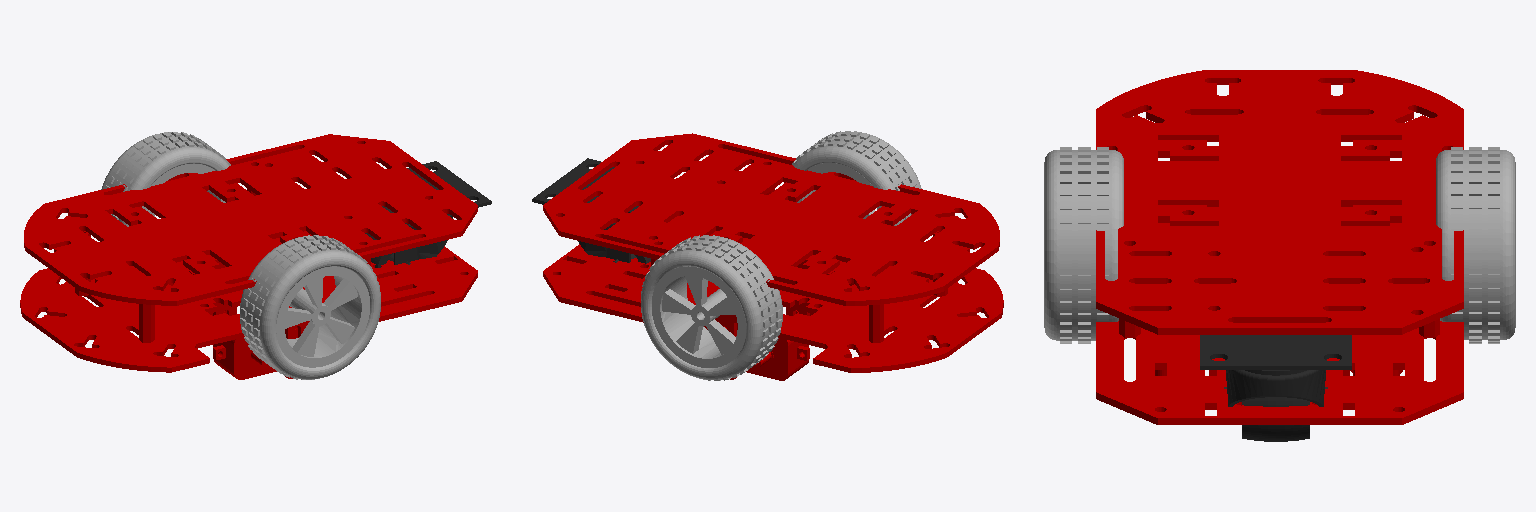
The robot description file, URDF, robot "my_robot":
<?xml version="1.0" ?>
<!-- =================================================================================== -->
<!-- |    This document was autogenerated by xacro from my_robot.xacro                 | -->
<!-- |    EDITING THIS FILE BY HAND IS NOT RECOMMENDED                                 | -->
<!-- =================================================================================== -->
<!--
	http://www.generationrobots.com/blog/en/2015/02/robotic-simulation-scenarios-with-gazebo-and-ros/#create your own robot model
	
	#######################################################

    To run:
    $ roslaunch my_robot_gazebo my_robot_world.launch paused:=true

    $ rosrun turtlebot_teleop turtlebot_teleop_key /turtlebot_teleop/cmd_vel:=/my_robot/cmd_vel

-->
<robot name="my_robot" xmlns:xacro="http://www.ros.org/wiki/xacro">
  <!--xacro:property name="cameraSize" value="0.05"/>
	<xacro:property name="cameraMass" value="0.1"/-->
  <material name="black">
    <color rgba="0.0 0.0 0.0 1.0"/>
  </material>
  <material name="blue">
    <color rgba="0.0 0.0 0.8 1.0"/>
  </material>
  <material name="green">
    <color rgba="0.0 0.8 0.0 1.0"/>
  </material>
  <material name="grey">
    <color rgba="0.2 0.2 0.2 1.0"/>
  </material>
  <material name="light_grey">
    <color rgba="0.6 0.6 0.6 1"/>
  </material>
  <material name="dark_grey">
    <color rgba="0.3 0.3 0.3 1"/>
  </material>
  <material name="orange">
    <color rgba="1.0 0.423529411765 0.0392156862745 1.0"/>
  </material>
  <material name="brown">
    <color rgba="0.870588235294 0.811764705882 0.764705882353 1.0"/>
  </material>
  <material name="red">
    <color rgba="0.8 0.0 0.0 1.0"/>
  </material>
  <material name="white">
    <color rgba="1.0 1.0 1.0 1.0"/>
  </material>
  <!-- ros_control plugin -->
  <gazebo>
    <plugin filename="libgazebo_ros_control.so" name="gazebo_ros_control">
      <robotNamespace>/my_robot</robotNamespace>
      <robotParam>/robot_description</robotParam>
      <robotSimType>gazebo_ros_control/DefaultRobotHWSim</robotSimType>
    </plugin>
  </gazebo>
  <!--
    The plugin broadcasts a body's pose and rates through ROS nav_msgs::Odometry message.
    The plugin broadcasts pose and rate of a body named "chassis" over ROS topic name "my_robot/odom".
  -->
  <gazebo>
    <plugin filename="libgazebo_ros_p3d.so" name="ground_truth">
      <frameName>map</frameName>
      <bodyName>chassis</bodyName>
      <topicName>my_robot/odom</topicName>
      <updateRate>30.0</updateRate>
    </plugin>
  </gazebo>
  <!-- Chassis -->
  <gazebo reference="chassis">
    <mu1>0.3</mu1>
    <mu2>0.3</mu2>
    <material>Gazebo/Red</material>
  </gazebo>
  <!-- Caster wheel -->
  <gazebo reference="caster_wheel">
    <mu1>0.0</mu1>
    <mu2>0.0</mu2>
    <kp>1000000.0</kp>
    <kd>100.0</kd>
    <minDepth>0.001</minDepth>
    <maxVel>1.0</maxVel>
    <material>Gazebo/Chrome</material>
  </gazebo>
  <gazebo>
    <plugin filename="libgazebo_ros_diff_drive.so" name="differential_drive_controller">
      <robotNamespace>/</robotNamespace>
      <alwaysOn>true</alwaysOn>
      <updateRate>100</updateRate>
      <leftJoint>left_wheel_hinge</leftJoint>
      <rightJoint>right_wheel_hinge</rightJoint>
      <wheelSeparation>0.025</wheelSeparation>
      <wheelDiameter>0.064</wheelDiameter>
      <torque>20</torque>
      <commandTopic>my_robot/cmd_vel</commandTopic>
      <odometryTopic>my_robot/odom</odometryTopic>
      <odometryFrame>odom</odometryFrame>
      <robotBaseFrame>base_footprint</robotBaseFrame>
      <legacyMode>false</legacyMode>
      <rosDebugLevel>Debug</rosDebugLevel>
      <publishWheelTF>true</publishWheelTF>
      <publishWheelJointState>true</publishWheelJointState>
      <wheelAcceleration>5</wheelAcceleration>
      <wheelTorque>20</wheelTorque>
      <publishTf>1</publishTf>
      <odometrySource>encoder</odometrySource>
    </plugin>
  </gazebo>
  <!-- Used for fixing robot to Gazebo 'chassis' -->
  <link name="base_footprint"/>
  <joint name="base_joint" type="fixed">
    <parent link="base_footprint"/>
    <child link="chassis"/>
  </joint>
  <link name="chassis">
    <collision>
      <origin rpy="0 0 0" xyz="0 0 0.032"/>
      <geometry>
        <!--box size="${chassisLength} 
						   ${chassisWidth} 
						   ${chassisHeight}"/-->
        <mesh filename="package://my_robot_description/meshes/chassis.dae"/>
      </geometry>
    </collision>
    <visual>
      <origin rpy="0 0 0" xyz="0 0 0.032"/>
      <geometry>
        <mesh filename="package://my_robot_description/meshes/chassis.dae"/>
      </geometry>
      <material name="red"/>
    </visual>
    <inertial>
      <origin rpy="0 0 0" xyz="0 0 0.032"/>
      <mass value="0.15"/>
      <inertia ixx="0.000225528625" ixy="0" ixz="0" iyy="0.000538566125" iyz="0" izz="0.000538566125"/>
    </inertial>
  </link>
  <joint name="caster_joint" type="fixed">
    <parent link="chassis"/>
    <child link="caster_wheel"/>
  </joint>
  <link name="caster_wheel">
    <collision>
      <origin rpy="0 0 0" xyz="0.091 0 0.042"/>
      <geometry>
        <!--sphere radius="${casterRadius}"/-->
        <mesh filename="package://my_robot_description/meshes/caster_wheel.dae"/>
      </geometry>
    </collision>
    <visual>
      <origin rpy="0 0 0" xyz="0.091 0 0.042"/>
      <geometry>
        <!--sphere radius="${casterRadius}"/-->
        <mesh filename="package://my_robot_description/meshes/caster_wheel.dae"/>
      </geometry>
      <material name="grey"/>
    </visual>
    <inertial>
      <origin rpy="0 0 0" xyz="0.091 0 0.042"/>
      <mass value="0.09"/>
      <inertia ixx="1.5876e-05" ixy="0" ixz="0" iyy="1.5876e-05" iyz="0" izz="1.5876e-05"/>
    </inertial>
  </link>
  <link name="left_wheel">
    <collision>
      <origin rpy="1.57079632679 0 0" xyz="0 0 0"/>
      <geometry>
        <cylinder length="0.026" radius="0.032"/>
        <!--mesh filename="package://my_robot_description/meshes/${lr}_wheel.dae" /-->
      </geometry>
    </collision>
    <visual>
      <origin rpy="1.57079632679 0 0" xyz="0 0 0"/>
      <geometry>
        <!--cylinder 
            length="${wheelWidth}" 
            radius="${wheelRadius}"/-->
        <mesh filename="package://my_robot_description/meshes/left_wheel.dae"/>
      </geometry>
    </visual>
    <inertial>
      <origin rpy="1.57079632679 0 0" xyz="0 0 0"/>
      <mass value="0.05"/>
      <inertia ixx="1.56166666667e-05" ixy="0" ixz="0" iyy="1.56166666667e-05" iyz="0" izz="2.56e-05"/>
    </inertial>
  </link>
  <gazebo reference="left_wheel">
    <mu1 value="1.0"/>
    <mu2 value="1.0"/>
    <kp value="10000000.0"/>
    <kd>100.0</kd>
    <minDepth>0.001</minDepth>
    <maxVel>1.0</maxVel>
    <!--kd  value="1.0" />
      <fdir1 value="1 0 0"/-->
    <material>Gazebo/FlatBlack</material>
  </gazebo>
  <joint name="left_wheel_hinge" type="continuous">
    <parent link="chassis"/>
    <child link="left_wheel"/>
    <origin rpy="0 0 0" xyz="0 0.063 0.032"/>
    <axis rpy="0 0 0" xyz="0 1 0"/>
    <!--limit effort="100" velocity="10"/-->
    <limit effort="0.0" velocity="0.0"/>
    <joint_properties damping="0.0" friction="0.0"/>
  </joint>
  <!--
  http://gazebosim.org/tutorials/?tut=ros_control
-->
  <transmission name="left_trans">
    <type>transmission_interface/SimpleTransmission</type>
    <joint name="left_wheel_hinge">
      <hardwareInterface>hardware_interface/EffortJointInterface</hardwareInterface>
    </joint>
    <actuator name="leftMotor">
      <hardwareInterface>hardware_interface/EffortJointInterface</hardwareInterface>
      <mechanicalReduction>10</mechanicalReduction>
      <!--mechanicalReduction>1</mechanicalReduction-->
    </actuator>
  </transmission>
  <link name="right_wheel">
    <collision>
      <origin rpy="-1.57079632679 0 0" xyz="0 0 0"/>
      <geometry>
        <cylinder length="0.026" radius="0.032"/>
        <!--mesh filename="package://my_robot_description/meshes/${lr}_wheel.dae" /-->
      </geometry>
    </collision>
    <visual>
      <origin rpy="-1.57079632679 0 0" xyz="0 0 0"/>
      <geometry>
        <!--cylinder 
            length="${wheelWidth}" 
            radius="${wheelRadius}"/-->
        <mesh filename="package://my_robot_description/meshes/right_wheel.dae"/>
      </geometry>
    </visual>
    <inertial>
      <origin rpy="-1.57079632679 0 0" xyz="0 0 0"/>
      <mass value="0.05"/>
      <inertia ixx="1.56166666667e-05" ixy="0" ixz="0" iyy="1.56166666667e-05" iyz="0" izz="2.56e-05"/>
    </inertial>
  </link>
  <gazebo reference="right_wheel">
    <mu1 value="1.0"/>
    <mu2 value="1.0"/>
    <kp value="10000000.0"/>
    <kd>100.0</kd>
    <minDepth>0.001</minDepth>
    <maxVel>1.0</maxVel>
    <!--kd  value="1.0" />
      <fdir1 value="1 0 0"/-->
    <material>Gazebo/FlatBlack</material>
  </gazebo>
  <joint name="right_wheel_hinge" type="continuous">
    <parent link="chassis"/>
    <child link="right_wheel"/>
    <origin rpy="0 0 0" xyz="0 -0.063 0.032"/>
    <axis rpy="0 0 0" xyz="0 1 0"/>
    <!--limit effort="100" velocity="10"/-->
    <limit effort="0.0" velocity="0.0"/>
    <joint_properties damping="0.0" friction="0.0"/>
  </joint>
  <!--
  http://gazebosim.org/tutorials/?tut=ros_control
-->
  <transmission name="right_trans">
    <type>transmission_interface/SimpleTransmission</type>
    <joint name="right_wheel_hinge">
      <hardwareInterface>hardware_interface/EffortJointInterface</hardwareInterface>
    </joint>
    <actuator name="rightMotor">
      <hardwareInterface>hardware_interface/EffortJointInterface</hardwareInterface>
      <mechanicalReduction>10</mechanicalReduction>
      <!--mechanicalReduction>1</mechanicalReduction-->
    </actuator>
  </transmission>
  <!--joint name="camera_joint" type="fixed">
		<origin xyz="${-cameraSize+chassisLength/2} 0 ${cameraSize+wheelRadius+cameraSize/2}" rpy="0 0 0"/>
		<parent link="chassis"/>
		<child link="camera"/>
	</joint>

	<link name="camera">
		<collision>
			<origin xyz="0 0 0" rpy="0 0 0"/>
			<geometry>
				<box size="${cameraSize} 
						   ${cameraSize} 
						   ${cameraSize}"/>
			</geometry>
		</collision>

		<visual>
			<origin xyz="0 0 0" rpy="0 0 0"/>
			<geometry>
				<box size="${cameraSize} 
						   ${cameraSize} 
						   ${cameraSize}"/>
			</geometry>
			<material name="blue"/>
		</visual>

		<inertial>
			<mass value="${cameraMass}" />
			<origin xyz="0 0 0" rpy="0 0 0"/>
			<box_inertia m="${cameraMass}" 
						 x="${cameraSize}" 
						 y="${cameraSize}" 
						 z="${cameraSize}" />
		</inertial>
	</link-->
</robot>

--- What the picture shows (computed from the rendered views, not written in the file) ---
3 views of the same robot in one strip: view 1: azimuth 30°, elevation 25°; view 2: azimuth 150°, elevation 25°; view 3: azimuth 270°, elevation 25° (orthographic).
Model my_robot with 5 links and 4 joints (2 continuous, 2 fixed), rooted at base_footprint, posed every joint at zero.
Visible links, largest first — view 1: chassis, right_wheel, left_wheel, caster_wheel; view 2: chassis, left_wheel, right_wheel, caster_wheel; view 3: chassis, right_wheel, left_wheel, caster_wheel.
Link boxes in pixels (box(x1,y1,x2,y2)): chassis: box(20, 134, 477, 379); right_wheel: box(240, 235, 380, 379); left_wheel: box(101, 132, 230, 226); caster_wheel: box(365, 161, 491, 267); chassis: box(543, 133, 1003, 380); left_wheel: box(641, 235, 782, 380); right_wheel: box(792, 131, 921, 225); caster_wheel: box(532, 158, 650, 263); chassis: box(1096, 70, 1463, 424); right_wheel: box(1044, 147, 1123, 343); left_wheel: box(1436, 147, 1515, 343); caster_wheel: box(1200, 335, 1351, 441).
Size in the robot's own frame: 0.2146 by 0.1531 by 0.0755 metres.
Meshes: 4 distinct files referenced, 4 mesh visuals loaded (4 Collada DAE).